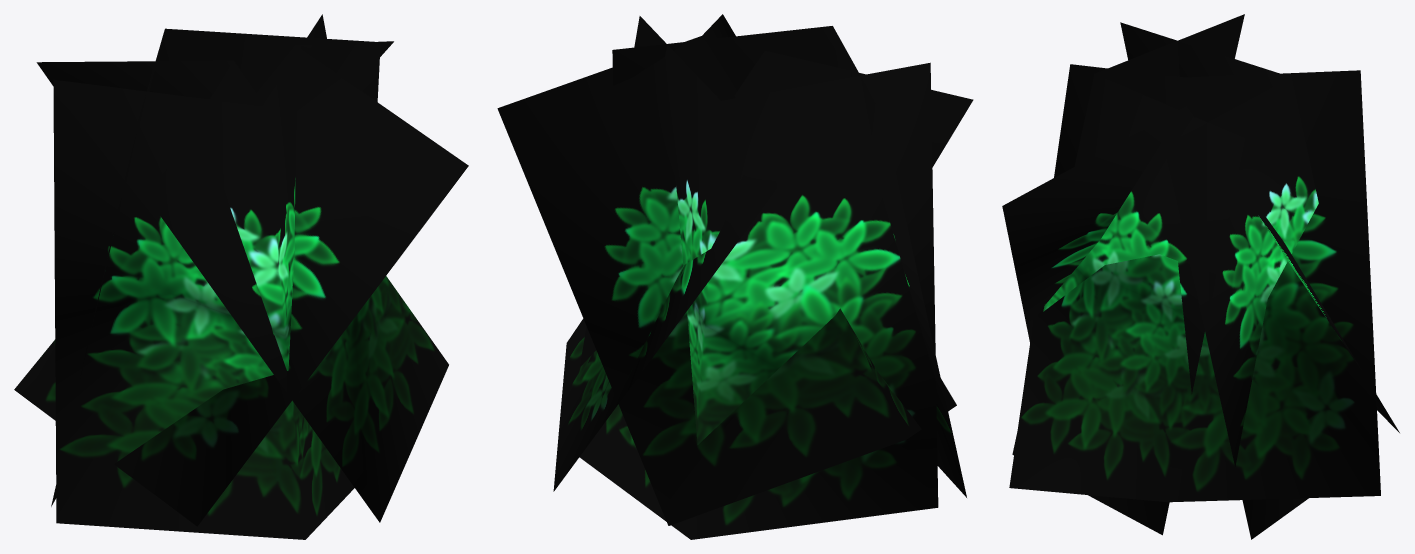
Rendered from bushes2.fbx.
3 renders of one model, left to right at view 1: azimuth 30°, elevation 25°; view 2: azimuth 150°, elevation 25°; view 3: azimuth 270°, elevation 25°, orthographic. The views are drawn at different scales.
Visible parts, largest first — view 1: bushes; view 2: bushes; view 3: bushes.
Boxes of the visible parts, box(x1,y1,x2,y2) form: bushes: box(14, 14, 468, 539); bushes: box(497, 14, 973, 539); bushes: box(1002, 14, 1399, 539).
Size of the model in its own units: 11.7 by 11.35 by 10.59.
Materials: 1 (1 with a texture image).
